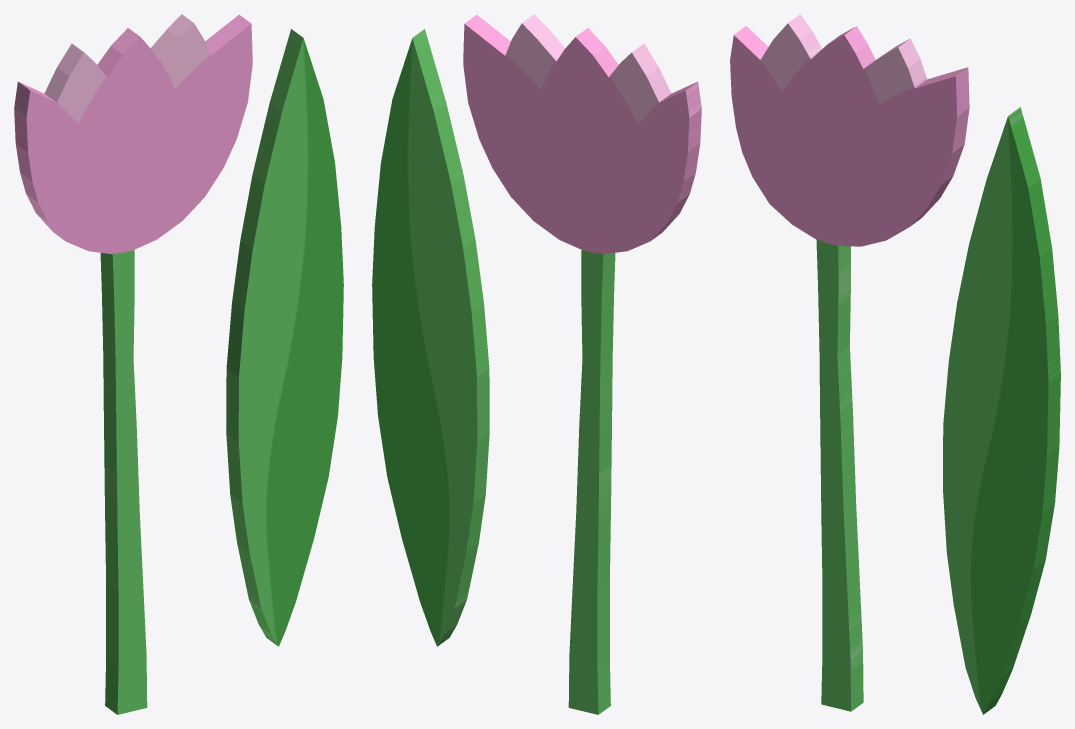
Rendered from MaskPlant_Tulip.fbx.
The picture shows the model from 3 angles, left to right: view 1: azimuth 30°, elevation 25°; view 2: azimuth 150°, elevation 25°; view 3: azimuth 330°, elevation 25°; orthographic projection.
Parts seen in each view (by area): view 1: TulipBloom, TulipLeaf; view 2: TulipBloom, TulipLeaf; view 3: TulipBloom, TulipLeaf.
Part boxes in pixels (<box>): TulipBloom: <box>14,14,252,714</box>; TulipLeaf: <box>226,29,343,646</box>; TulipBloom: <box>463,14,701,714</box>; TulipLeaf: <box>372,29,489,646</box>; TulipBloom: <box>730,14,969,711</box>; TulipLeaf: <box>943,107,1060,714</box>.
Size of the model in its own units: 11.69 by 23.71 by 0.7925.
